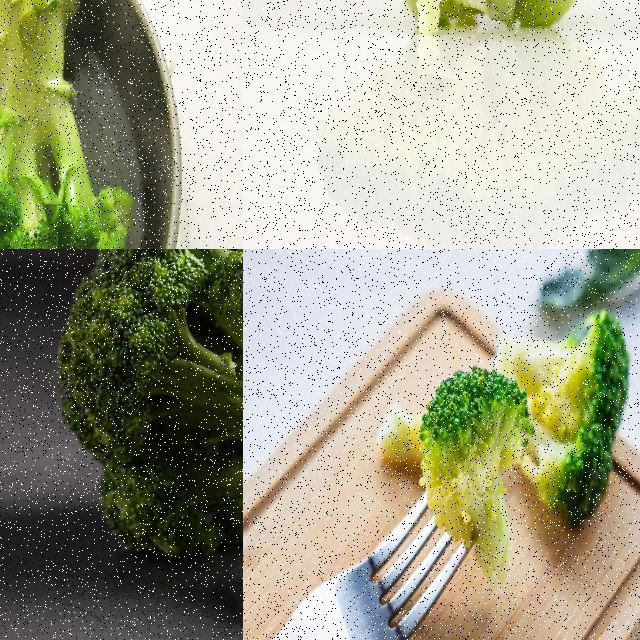broccoli: (55, 249, 242, 619), (0, 0, 132, 248), (489, 308, 630, 500), (421, 361, 534, 584)
